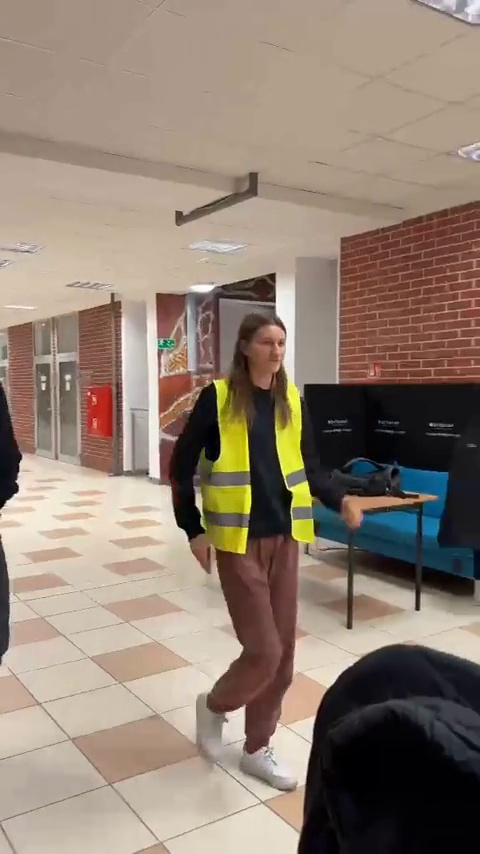vest: (171, 311, 326, 783)
